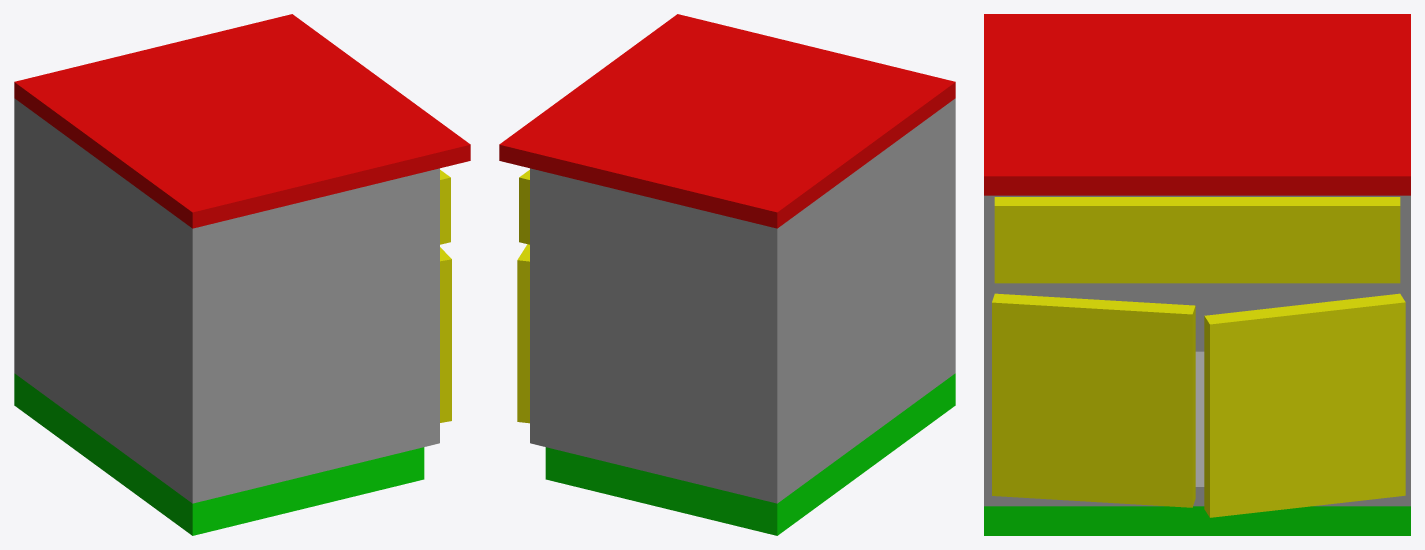
The model's file is SM_Cabinet_Empty.fbx.
3 renders of one model, left to right at view 1: azimuth 30°, elevation 25°; view 2: azimuth 150°, elevation 25°; view 3: azimuth 270°, elevation 25°, orthographic. The views are drawn at different scales.
Visible parts, largest first — view 1: SM_Cabinet_Base_Empty; view 2: SM_Cabinet_Base_Empty; view 3: SM_Cabinet_Base_Empty.
Boxes of the visible parts, bbox=[...] form: SM_Cabinet_Base_Empty: bbox=[14, 14, 470, 535]; SM_Cabinet_Base_Empty: bbox=[499, 14, 955, 535]; SM_Cabinet_Base_Empty: bbox=[984, 14, 1410, 535].
Bounding box in the file's own units: 97.12 × 100 × 100.
